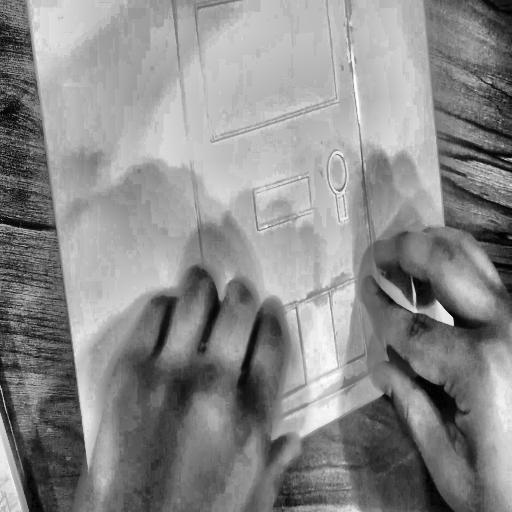bottom_left: (93, 500, 101, 512)
bottom_right: (452, 347, 460, 362)
door: (166, 0, 404, 454)
